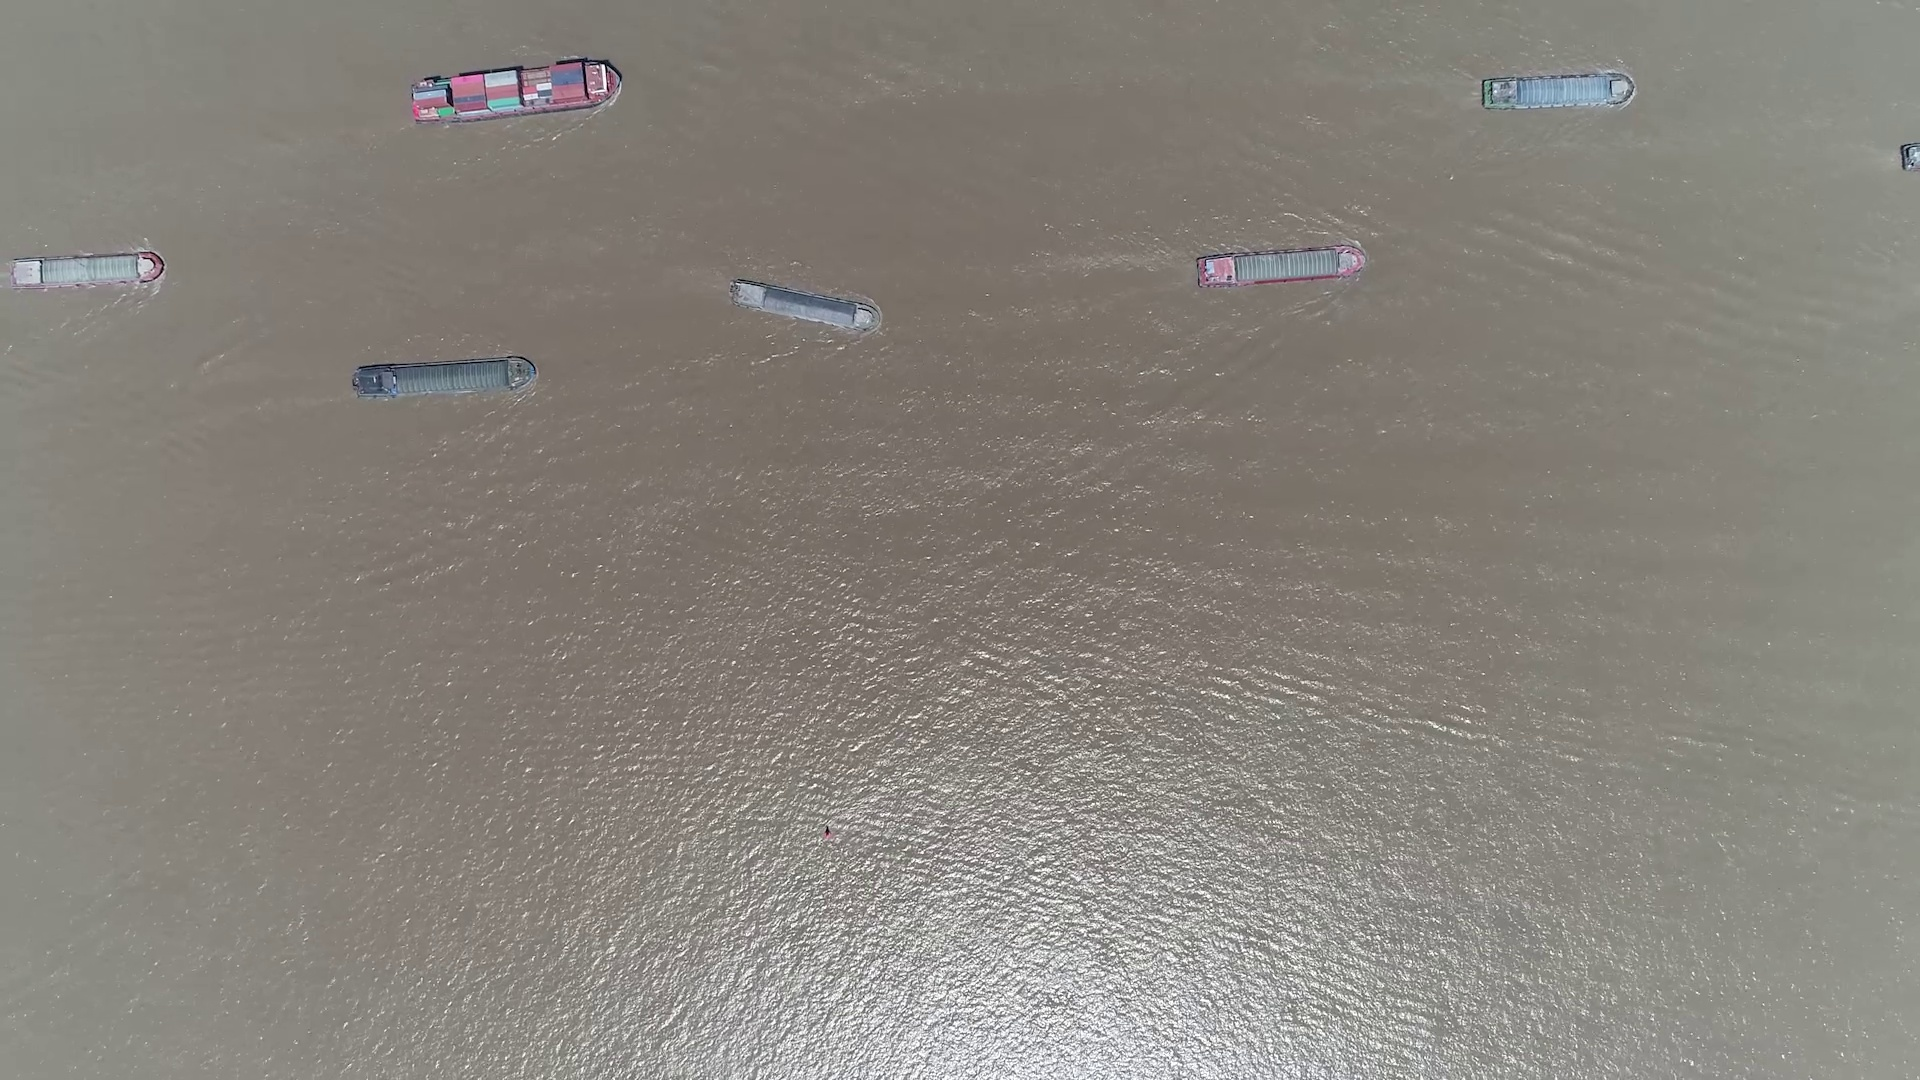ship: (410, 61, 621, 123), (729, 276, 878, 331), (353, 357, 534, 400), (1197, 244, 1365, 287), (1481, 73, 1631, 108), (9, 255, 165, 287)
